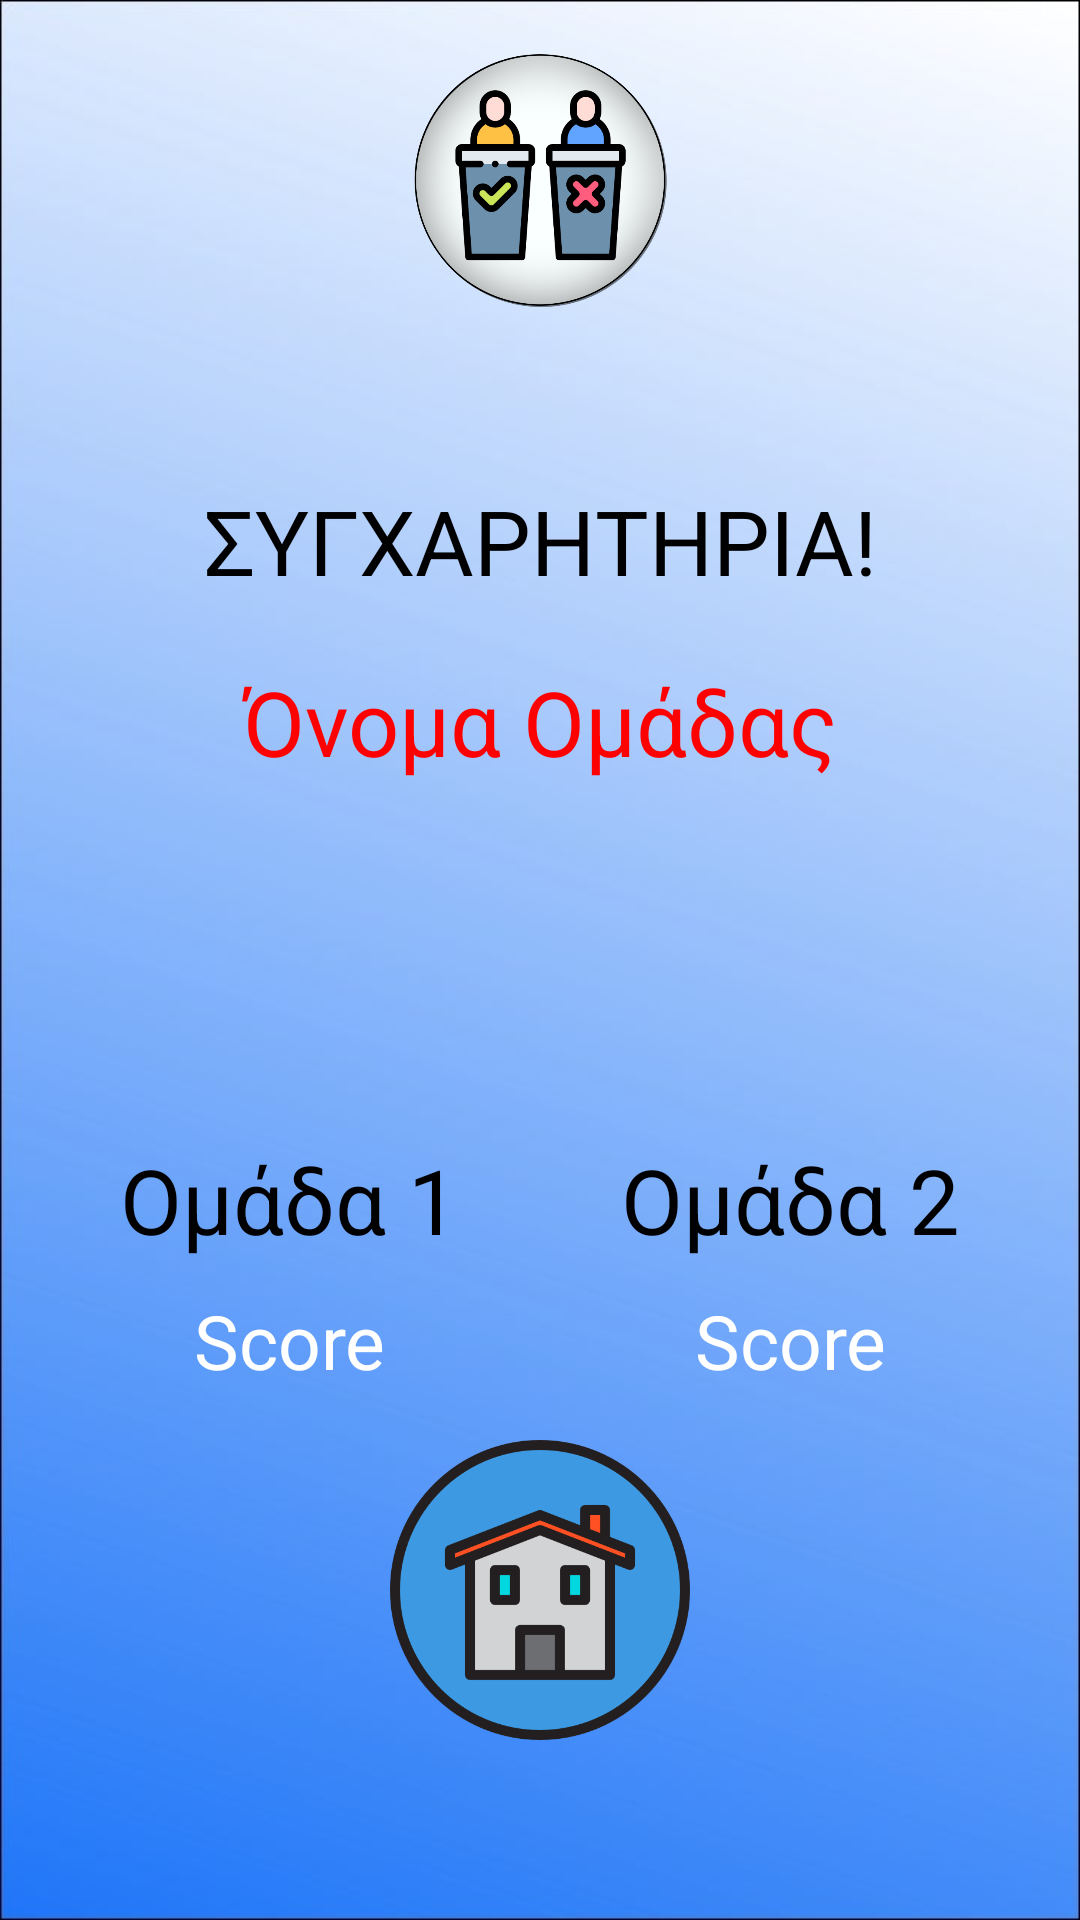

Where icons sit on this 1080×1920 app screen, as {"x1": x1, "y1": y1, "x2": x2, "y2": y2}:
homepage: {"x1": 444, "y1": 1504, "x2": 636, "y2": 1681}
